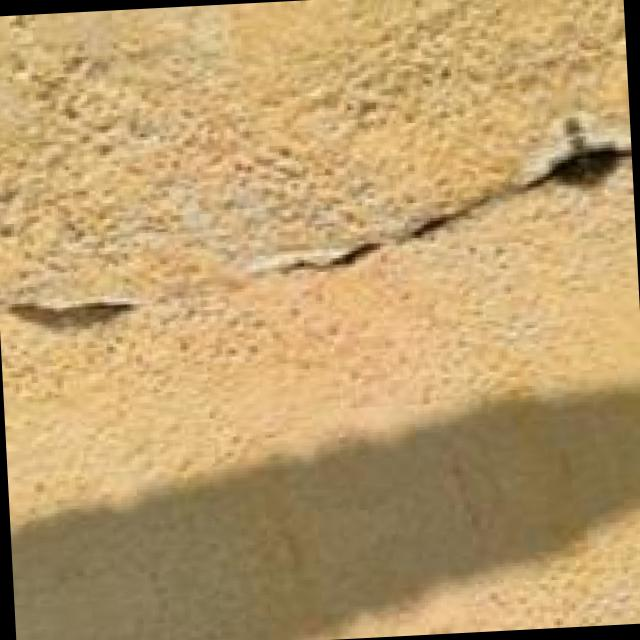crack: (0, 115, 635, 368)
